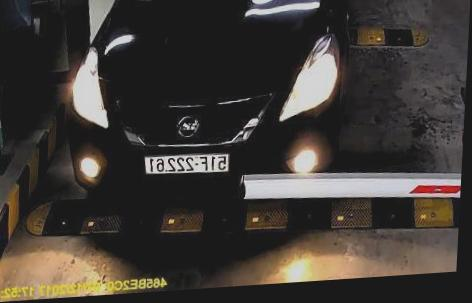License_Plate: (137, 147, 235, 182)
